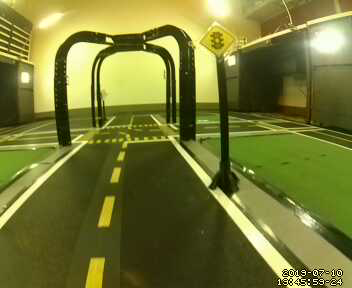Traffic light sign: (201, 23, 237, 61)
